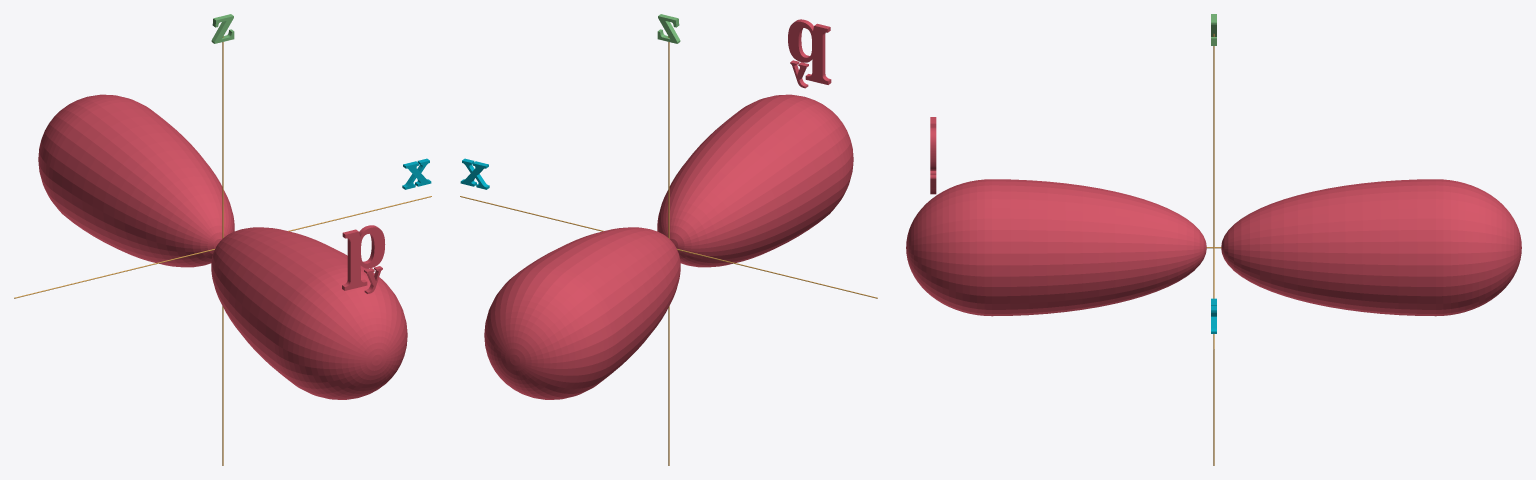
3 renders of one model, left to right at view 1: azimuth 30°, elevation 25°; view 2: azimuth 150°, elevation 25°; view 3: azimuth 270°, elevation 25°, orthographic.
Parts seen in each view (by area): view 1: Mesh_Mesh_head_geo.001_lambert2SG.001; view 2: Mesh_Mesh_head_geo.001_lambert2SG.001; view 3: Mesh_Mesh_head_geo.001_lambert2SG.001.
Boxes of the visible parts, x1,y1,x2,y2 form: Mesh_Mesh_head_geo.001_lambert2SG.001: (14,14,431,465); Mesh_Mesh_head_geo.001_lambert2SG.001: (460,14,877,465); Mesh_Mesh_head_geo.001_lambert2SG.001: (906,14,1521,465).
Bounding box in the file's own units: 84 × 86.23 × 108.
